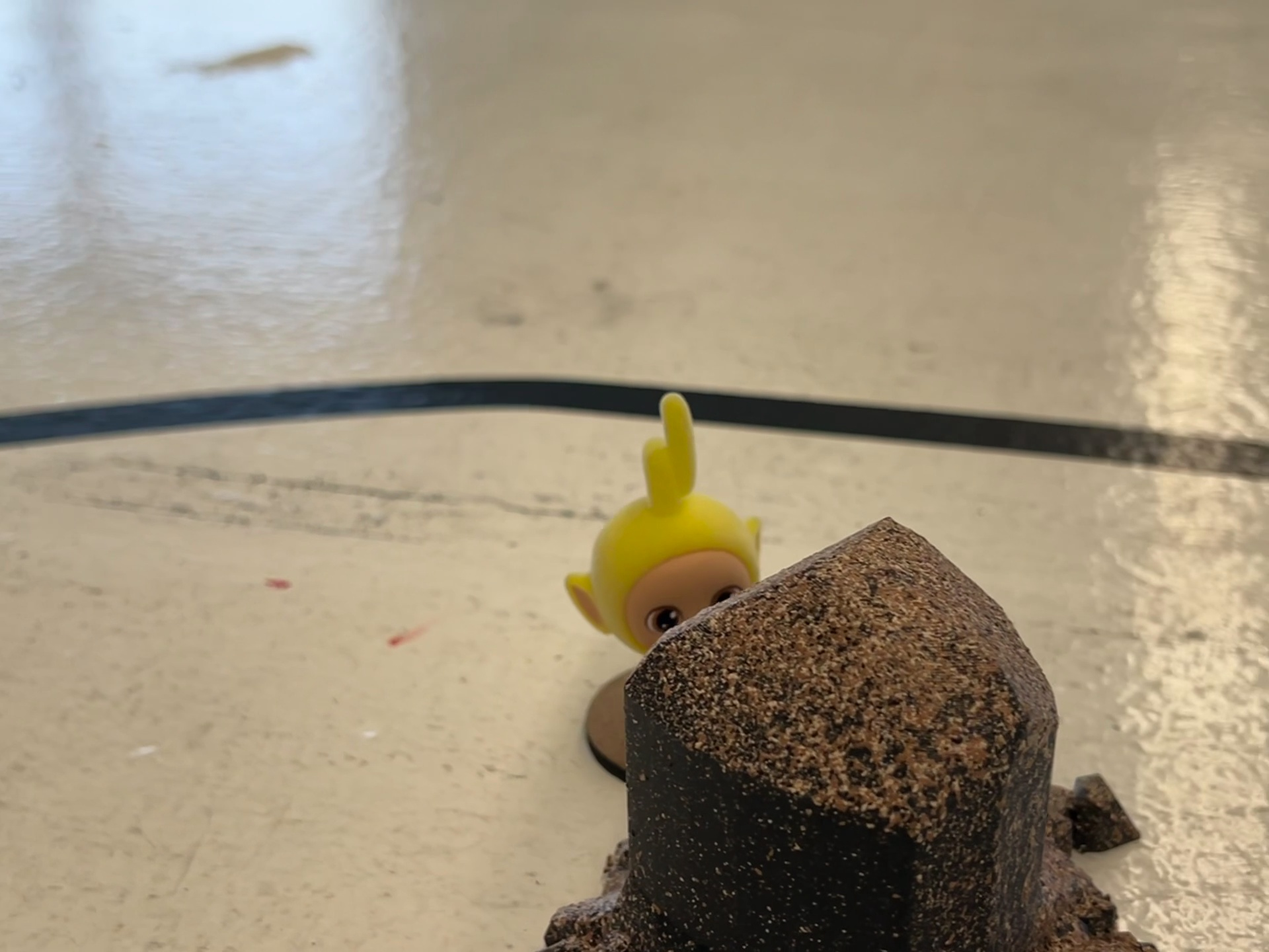teletubby: (565, 393, 761, 654)
